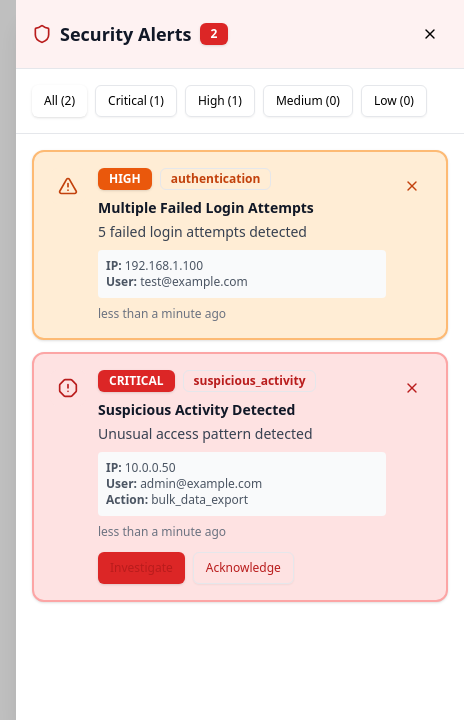
Security Alerts Panel › should filter alerts by priority
Note: Click critical filter
Click the button "Critical (1)" at {"x": 136, "y": 101}, box [95,85,177,117]
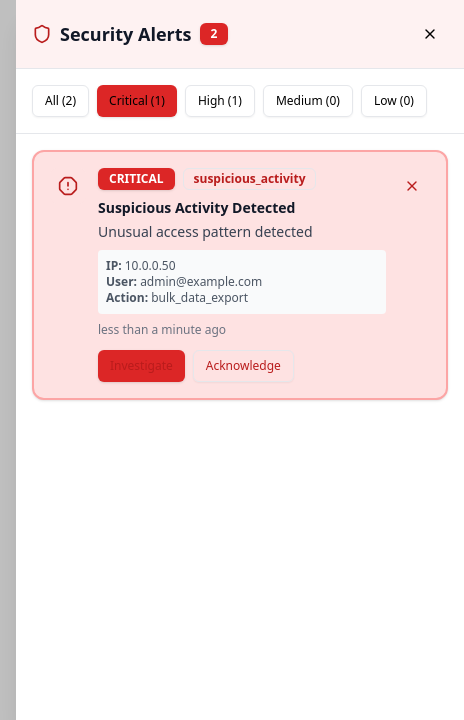
Expected: the text "Suspicious Activity Detected" is shown, [98,198,296,217]
Now the text "Multiple Failed Login Attempts" is gone
